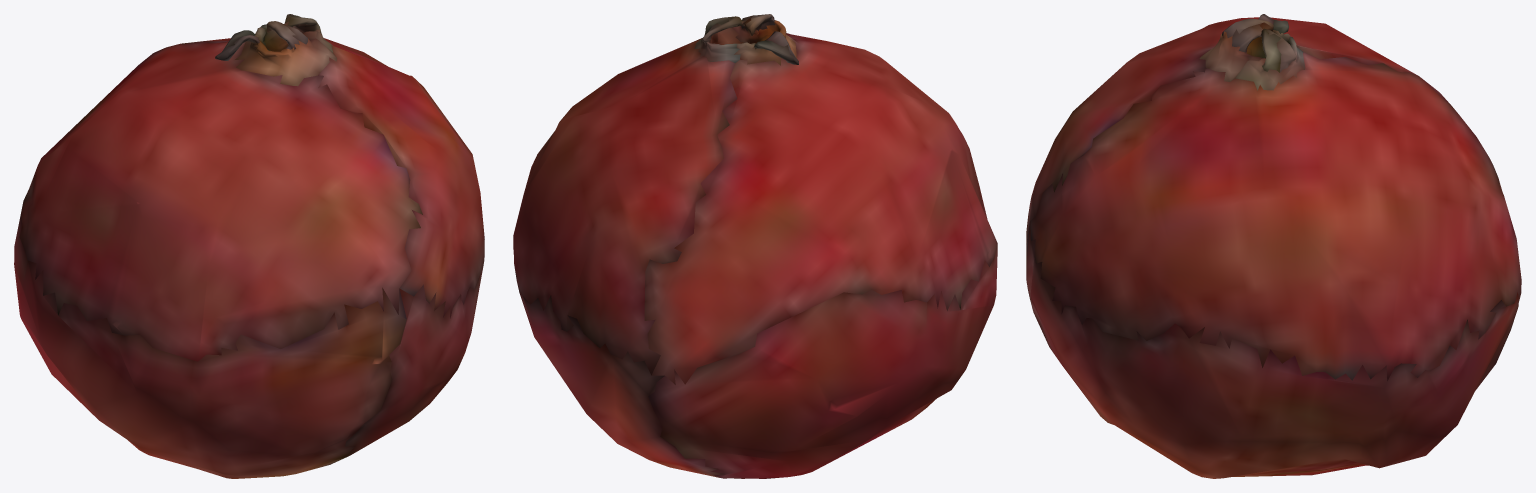
3 renders of one model, left to right at view 1: azimuth 30°, elevation 25°; view 2: azimuth 150°, elevation 25°; view 3: azimuth 270°, elevation 25°, orthographic. The views are drawn at different scales.
Parts seen in each view (by area): view 1: food_pomegranate_01; view 2: food_pomegranate_01; view 3: food_pomegranate_01.
Boxes of the visible parts, x1,y1,x2,y2 form: food_pomegranate_01: (14,14,484,478); food_pomegranate_01: (513,14,997,478); food_pomegranate_01: (1026,14,1521,478).
Bounding box in the file's own units: 0.1135 × 0.1149 × 0.115.
Materials: 1 (1 with a texture image).
